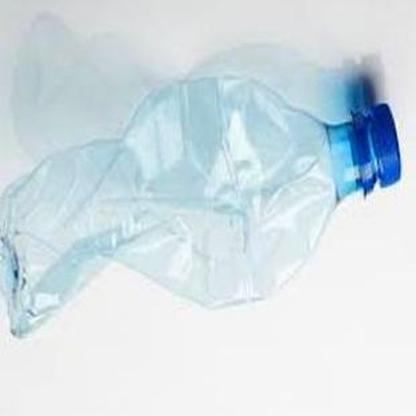plastic bottle: (1, 76, 403, 340)
